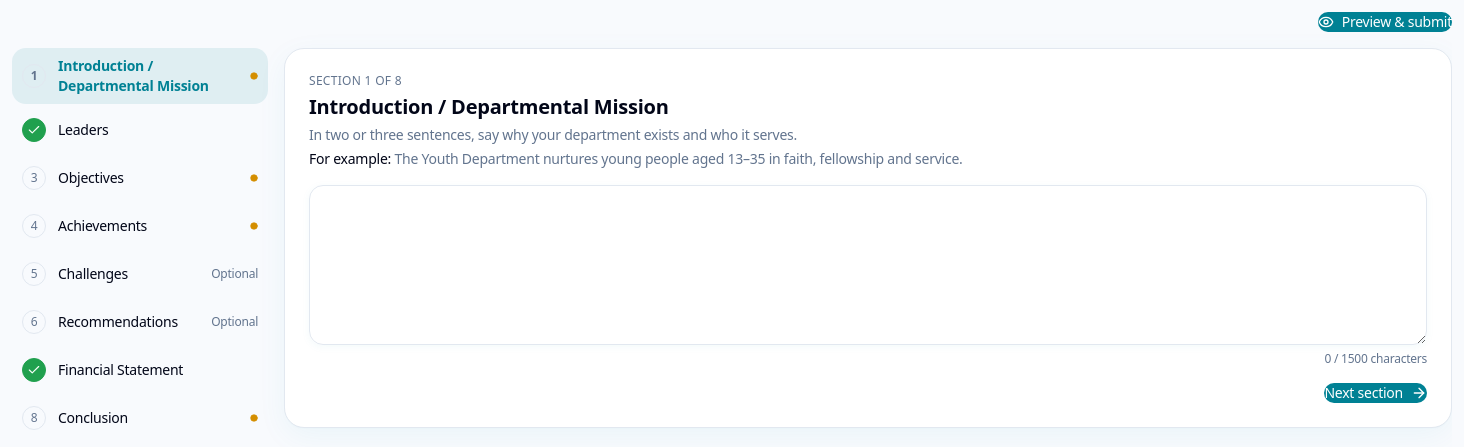
it: list sections › asks for objectives first when there are none to link
The image size is (1464, 447).
Click the button "4 Achievements". click: {"x": 140, "y": 226}
box: x1=12 y1=204 x2=268 y2=248
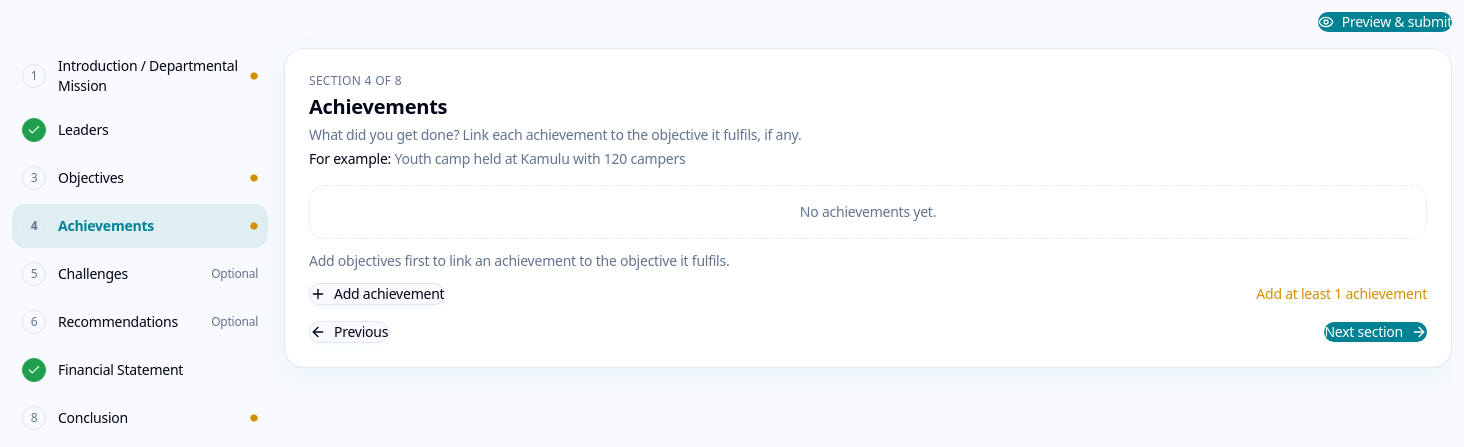
Expected: the text "Add objectives first" is shown, x1=309 y1=251 x2=730 y2=270
